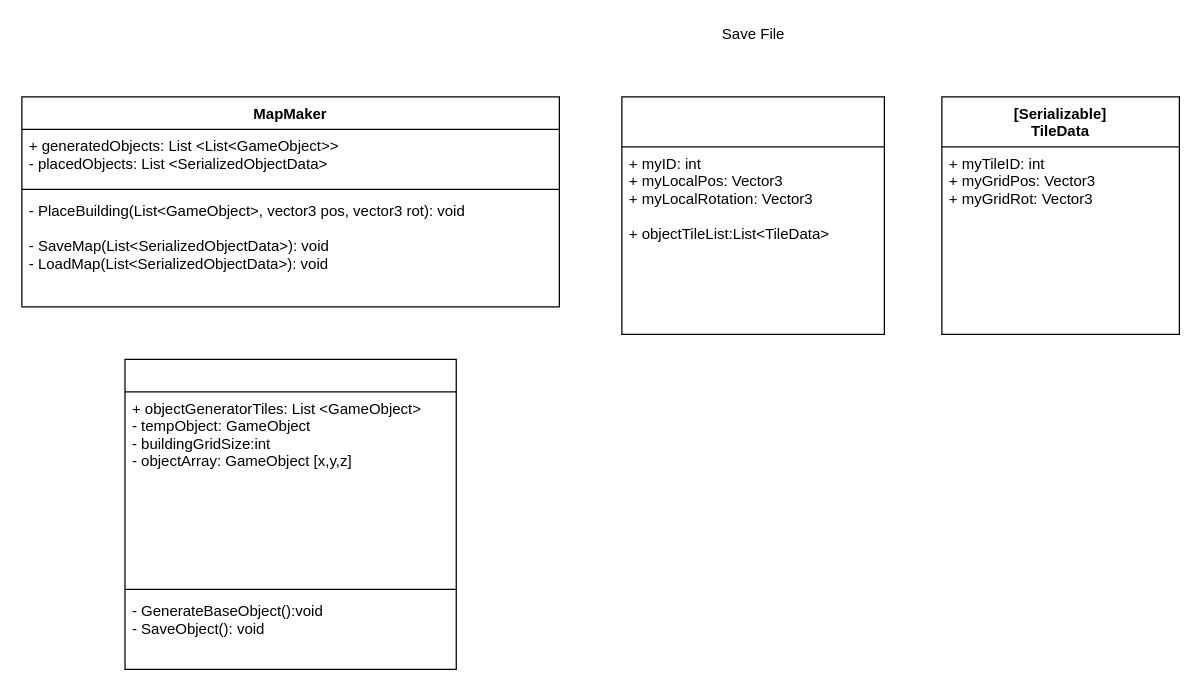
This 1201x694 diagram has some shape labels left out. The shapes that lost their labels are listed below. From the top down, each one's box as (x1, y1, x2, y2) in pixels, then its label:
(621, 96, 884, 334): [Serializable] SerializedObjectData
(124, 358, 456, 669): BuildingGenerator
